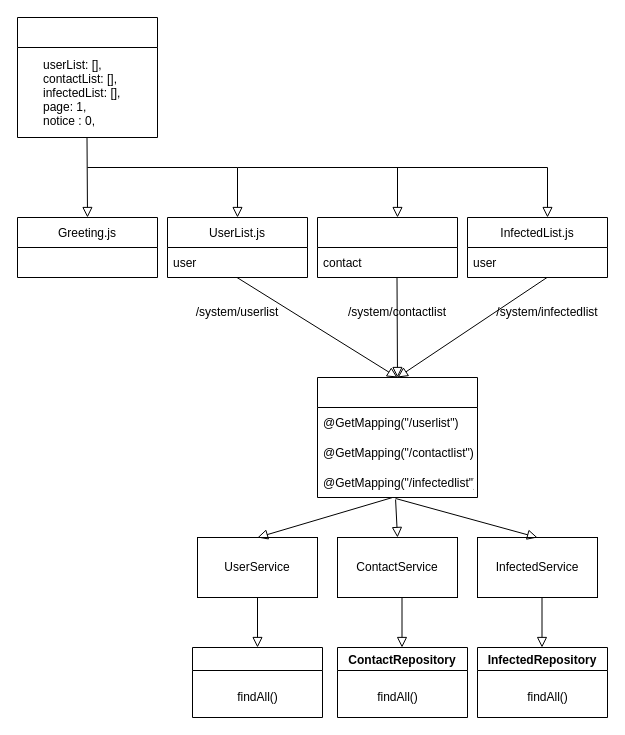
The diagram is 625 pixels wide and 735 high, and some of its shapes have lost their labels. Here are the shapes that lost their labels. From the top down, the box of each, then its label:
(16, 16, 158, 138): App.js
(316, 216, 458, 278): ContactList.js
(316, 376, 478, 498): WebController
(192, 646, 322, 718): UserRepository
